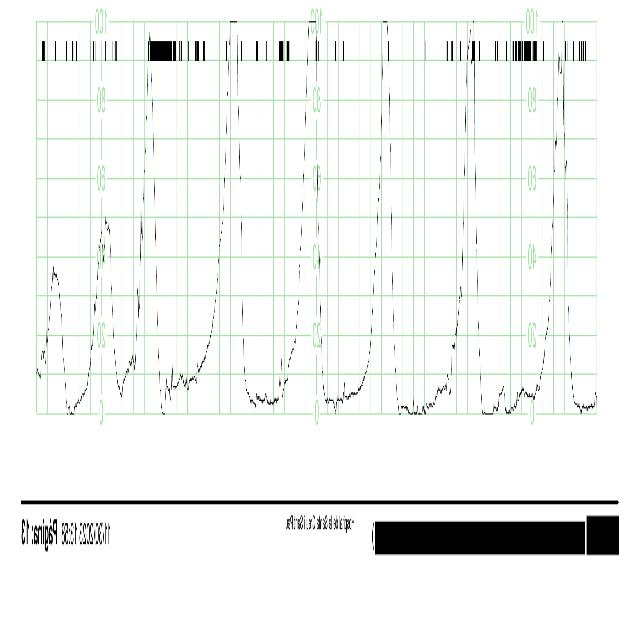contraction: (217, 25, 253, 407), (296, 31, 330, 407), (543, 27, 576, 409), (451, 35, 484, 417), (135, 29, 165, 411), (371, 19, 400, 413), (90, 218, 117, 398), (46, 272, 69, 417)
